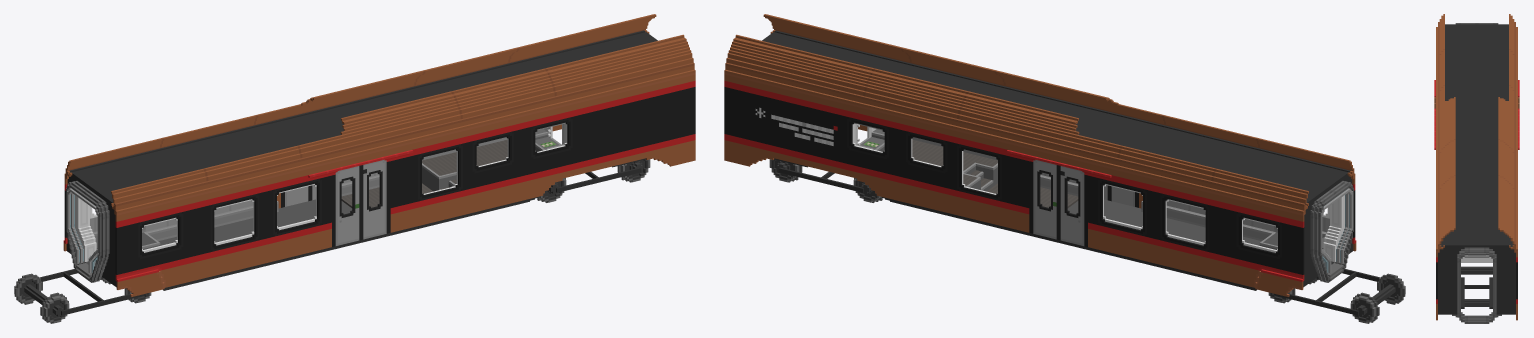
File: traverso_4.obj
The picture shows the model from 3 angles, left to right: view 1: azimuth 30°, elevation 25°; view 2: azimuth 150°, elevation 25°; view 3: azimuth 270°, elevation 25°; orthographic projection. The views are drawn at different scales.
Parts seen in each view (by area): view 1: FRAME_2, FRAME_1, INTERIOR_LCG_il_LINVERT_1, INTERIOR_LCG_il_LINVERT_2, BOGEY_FRONT_WHEEL_1, BOGEY_FRONT, BOGEY_REAR; view 2: FRAME_2, FRAME_1, INTERIOR_LCG_il_LINVERT_1, INTERIOR_LCG_il_LINVERT_2, BOGEY_FRONT_WHEEL_1, BOGEY_FRONT, BOGEY_REAR; view 3: FRAME_2, FRAME_1, BOGEY_REAR_WHEEL_1, INTERIOR_LCG_il_LINVERT_2, BOGEY_REAR_WHEEL_2, BOGEY_REAR.
Boxes of the visible parts, x1,y1,x2,y2 form: FRAME_2: (335, 14, 695, 237); FRAME_1: (63, 90, 385, 296); INTERIOR_LCG_il_LINVERT_1: (67, 184, 352, 277); INTERIOR_LCG_il_LINVERT_2: (341, 122, 567, 207); BOGEY_FRONT_WHEEL_1: (14, 273, 69, 323); BOGEY_FRONT: (39, 269, 146, 315); BOGEY_REAR: (556, 167, 641, 192); FRAME_2: (724, 14, 1084, 237); FRAME_1: (1034, 90, 1356, 296); INTERIOR_LCG_il_LINVERT_1: (1067, 184, 1352, 277); INTERIOR_LCG_il_LINVERT_2: (852, 122, 1078, 207); BOGEY_FRONT_WHEEL_1: (1350, 273, 1405, 323); BOGEY_FRONT: (1273, 269, 1380, 315); BOGEY_REAR: (778, 167, 863, 192); FRAME_2: (1434, 109, 1519, 323); FRAME_1: (1434, 14, 1519, 137); BOGEY_REAR_WHEEL_1: (1461, 266, 1492, 274); INTERIOR_LCG_il_LINVERT_2: (1461, 255, 1492, 262); BOGEY_REAR_WHEEL_2: (1452, 299, 1501, 317); BOGEY_REAR: (1464, 285, 1489, 288).
Size of the model in its own units: 20.88 by 4.12 by 3.
Materials: 1 (1 with a texture image).
